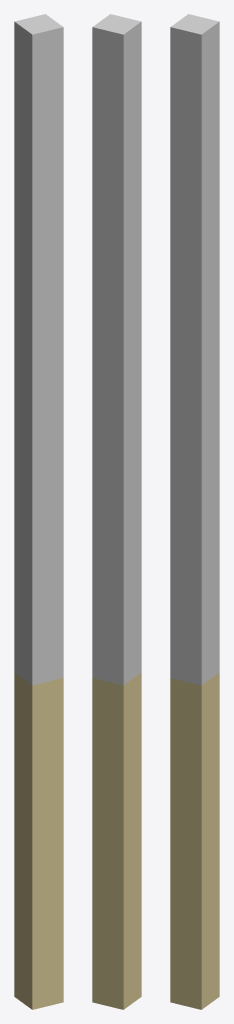
The model's file is Mesh_Wall2Colors_G5.fbx.
3 views of the same model, side by side, from view 1: azimuth 30°, elevation 25°; view 2: azimuth 150°, elevation 25°; view 3: azimuth 330°, elevation 25° (orthographic).
Visible parts, largest first — view 1: Mesh_Wall2Colors_G5; view 2: Mesh_Wall2Colors_G5; view 3: Mesh_Wall2Colors_G5.
Part boxes in pixels (x1,y1,x2,y2): Mesh_Wall2Colors_G5: (14,14,63,1009); Mesh_Wall2Colors_G5: (92,14,141,1009); Mesh_Wall2Colors_G5: (170,14,219,1009).
Bounding box in the file's own units: 0.1 × 3 × 0.1.
